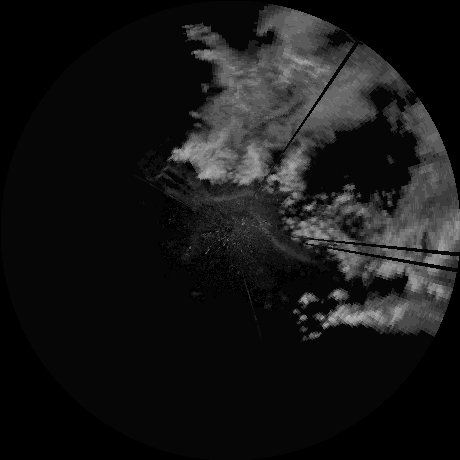frontgust: (164, 168, 264, 206), (253, 209, 312, 261)
